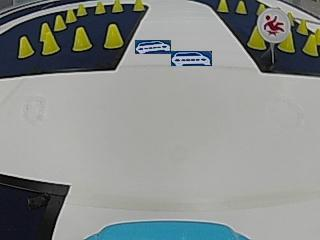cone: (72, 26, 91, 51), (104, 23, 122, 49), (247, 26, 265, 50), (41, 28, 57, 54), (17, 36, 33, 58), (302, 33, 317, 56), (279, 33, 295, 53), (53, 14, 65, 31), (235, 0, 247, 15), (216, 0, 229, 13), (65, 8, 76, 23), (297, 18, 307, 34), (112, 0, 123, 13), (76, 3, 87, 16), (133, 0, 145, 11), (95, 1, 105, 14)
tumble: (260, 11, 287, 39)
